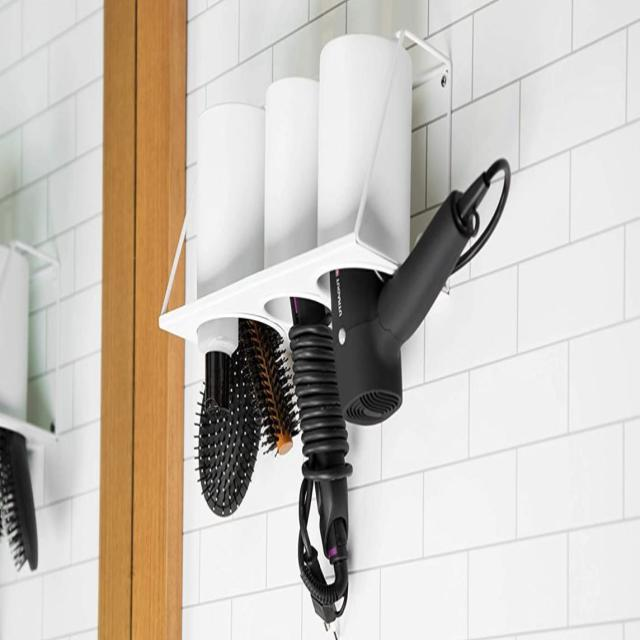dryer: (319, 149, 519, 442)
